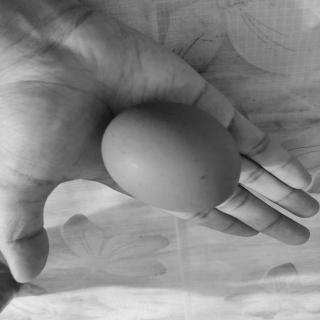Telur: (101, 102, 245, 214)
